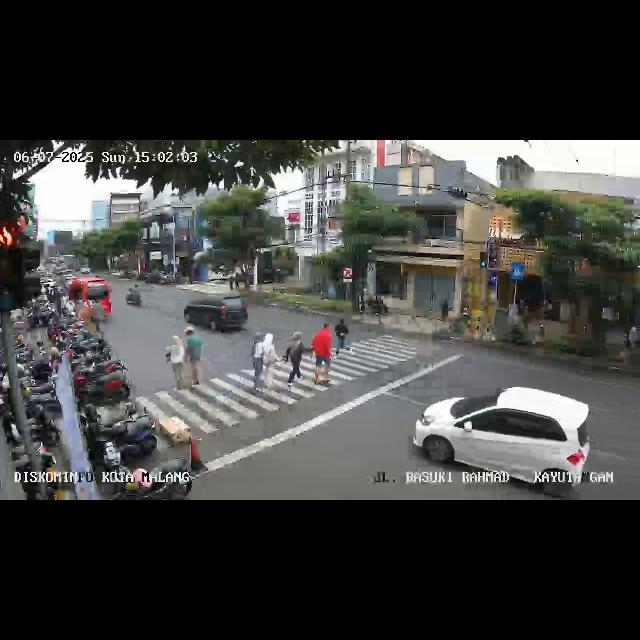car: (414, 387, 590, 498), (182, 292, 250, 336), (65, 276, 112, 324)
motorcycle: (125, 284, 144, 310)
person: (314, 323, 332, 389), (285, 331, 305, 389), (184, 326, 202, 386), (261, 334, 279, 392), (170, 332, 186, 393), (250, 330, 264, 392), (332, 316, 350, 352)
